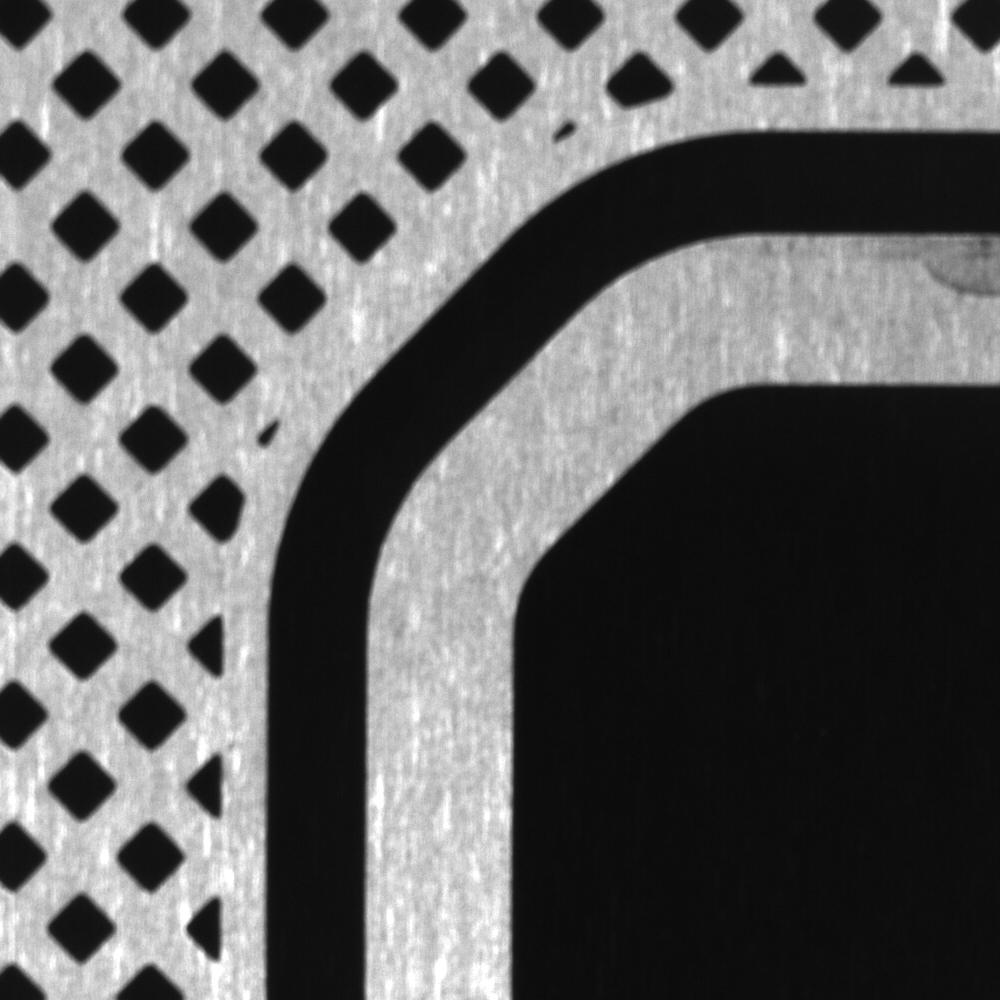Discolor: (835, 231, 997, 334)
